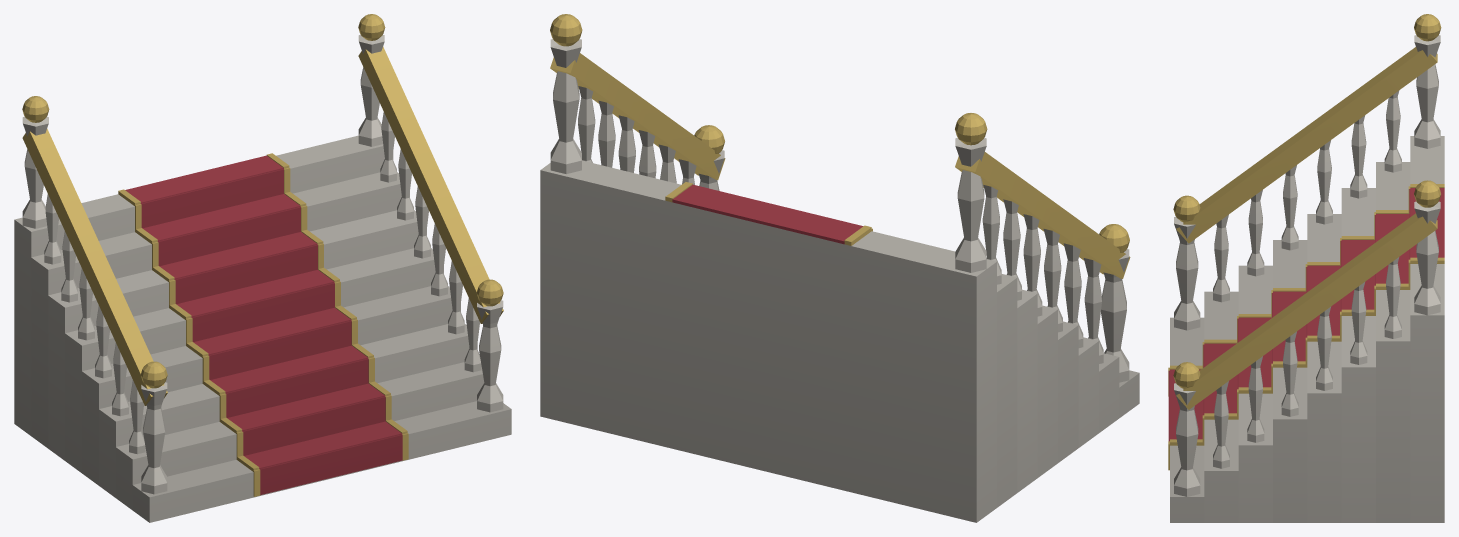
Rendered from palace_stairs_up.glb.
3 renders of one model, left to right at view 1: azimuth 30°, elevation 25°; view 2: azimuth 150°, elevation 25°; view 3: azimuth 270°, elevation 25°, orthographic. The views are drawn at different scales.
Visible parts, largest first — view 1: palace_stairs_up; view 2: palace_stairs_up; view 3: palace_stairs_up.
Boxes of the visible parts, x1,y1,x2,y2 form: palace_stairs_up: (14, 14, 511, 522); palace_stairs_up: (540, 14, 1139, 522); palace_stairs_up: (1168, 14, 1444, 522).
Bounding box in the file's own units: 2.78 × 2.42 × 1.81.
